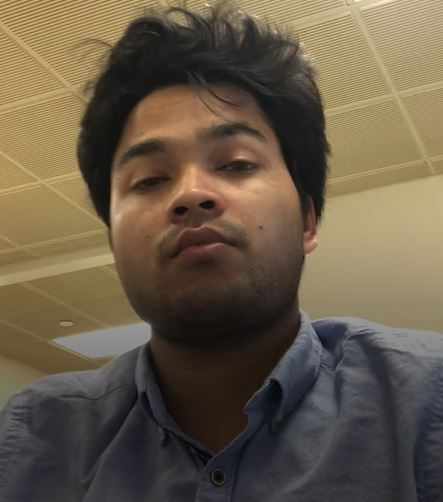Half Asleep: (105, 150, 295, 201)
